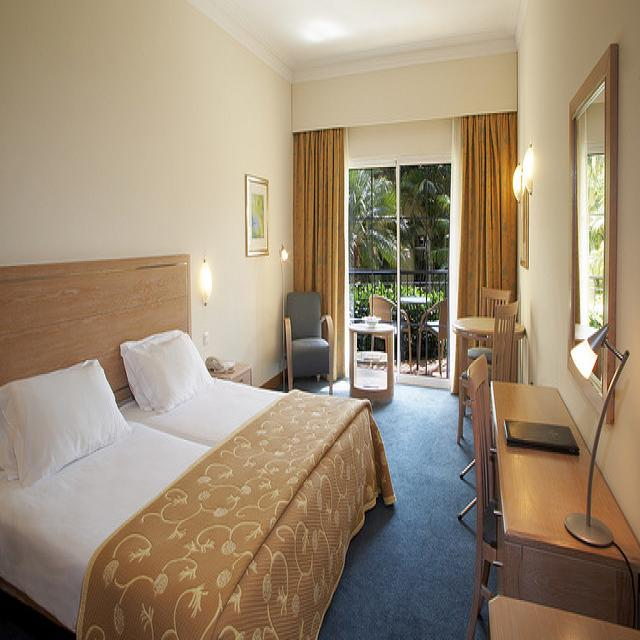chair: (467, 350, 503, 640), (456, 297, 520, 443), (285, 291, 334, 395), (369, 295, 412, 370), (467, 288, 502, 361), (418, 301, 448, 377)
dining table: (453, 317, 525, 374), (349, 322, 394, 331), (399, 294, 432, 305)
